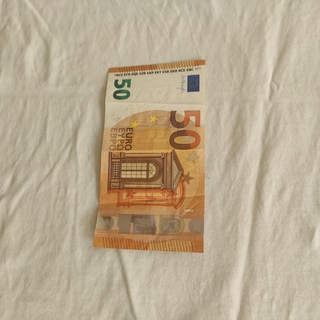50EUROFront: (92, 58, 206, 254)
